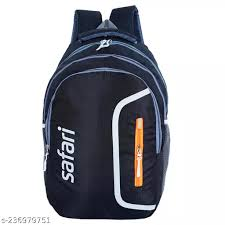backpack: (41, 4, 170, 219)
